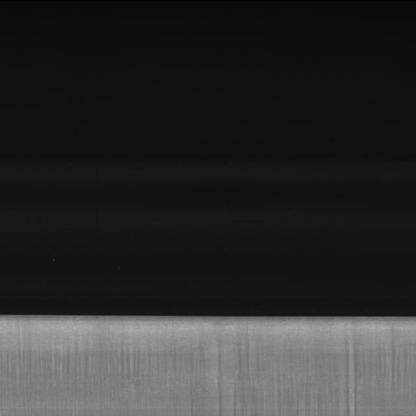waist_folding: (31, 322, 398, 412)
